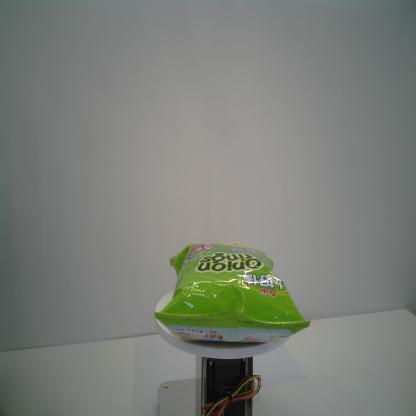Puffed Food: (154, 242, 311, 346)
